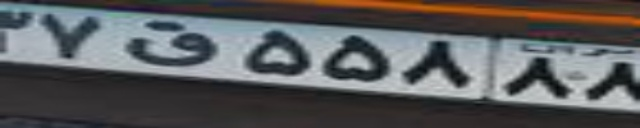3: (1, 9, 31, 54)
5: (239, 28, 310, 76), (320, 34, 387, 81)
7: (39, 11, 101, 59)
8: (401, 39, 471, 89), (503, 54, 571, 98), (584, 60, 637, 104)
ghaf: (123, 18, 218, 66)
